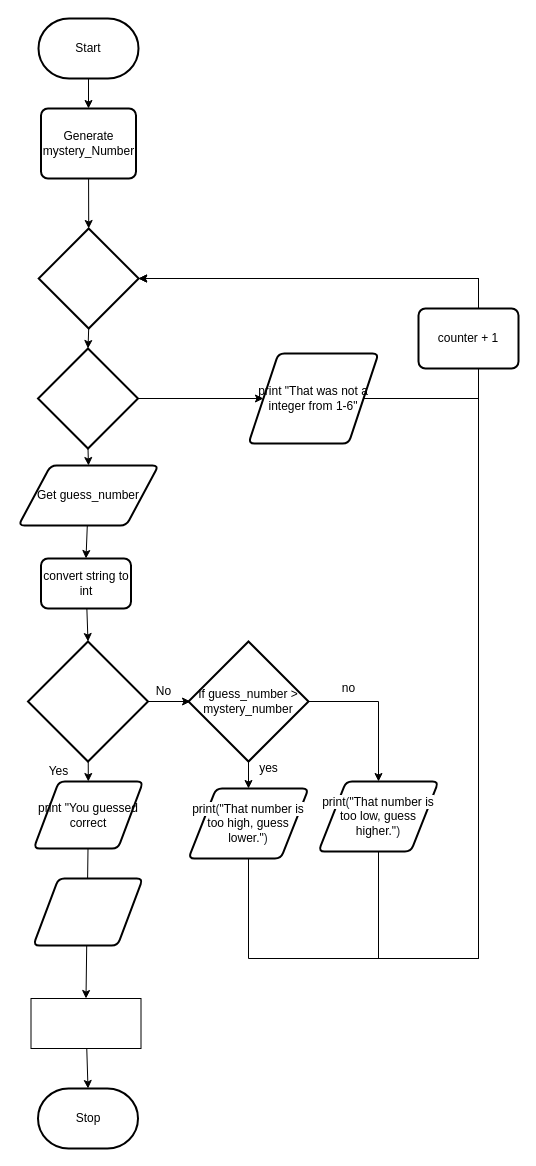
The diagram is 536 pixels wide and 1166 high, and some of its shapes have lost their labels. Here are the shapes that lost their labels. From the top down, the centre of each, then its label:
[88,278]: While (True)
[87,398]: Try
[87,701]: guess_number == mystery_number
[87,911]: print " It took counter tries"
[85,1023]: Break
